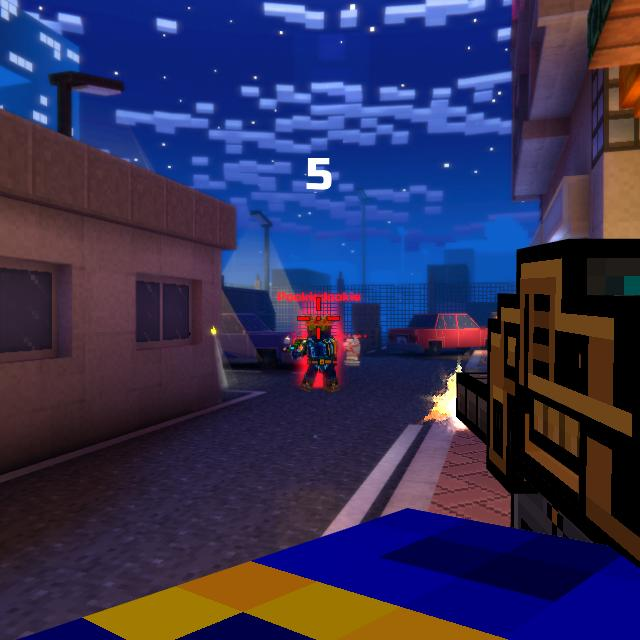Enemy: (294, 313, 338, 391)
